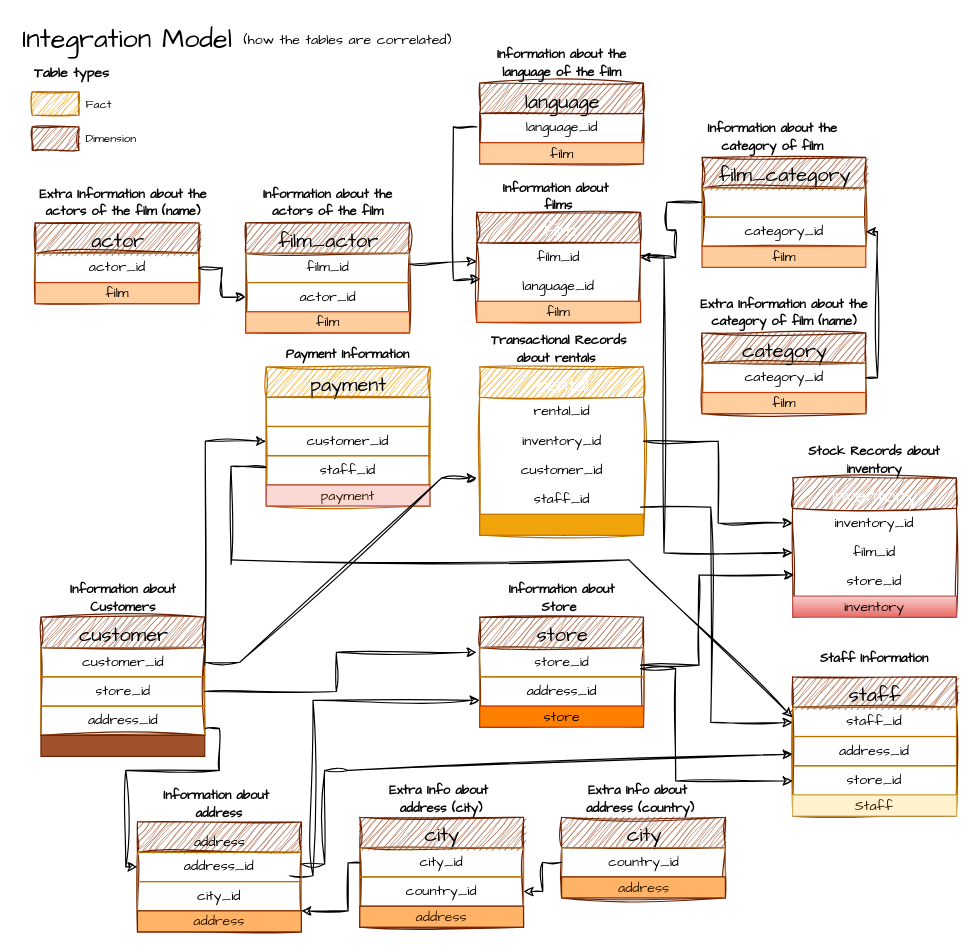
This 977x952 diagram has some shape labels left out. The centre of each missing label's shape, as x and y in pixels:
"customers" belongs at point 122,745.
"film id" belongs at point 783,202.
"payment_id" belongs at point 347,411.
"rentals" belongs at point 561,524.
